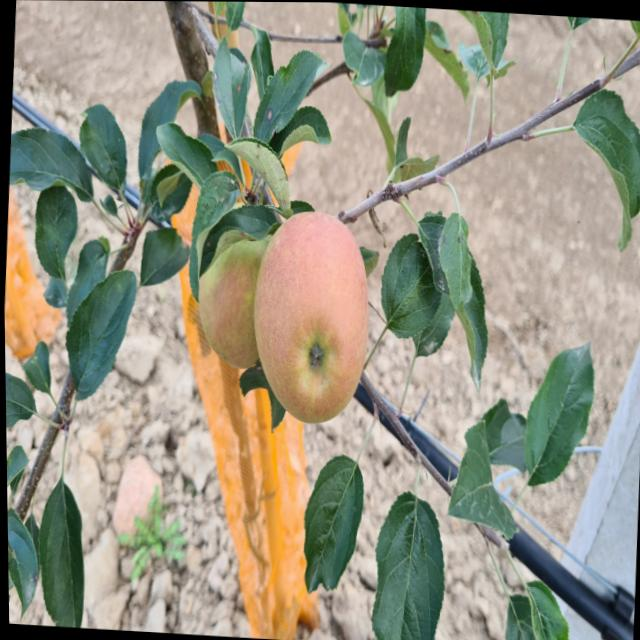Apple: (253, 212, 368, 423), (198, 236, 270, 368)
